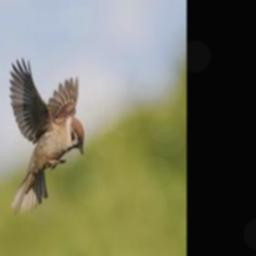Sparrow: (10, 58, 85, 216)
